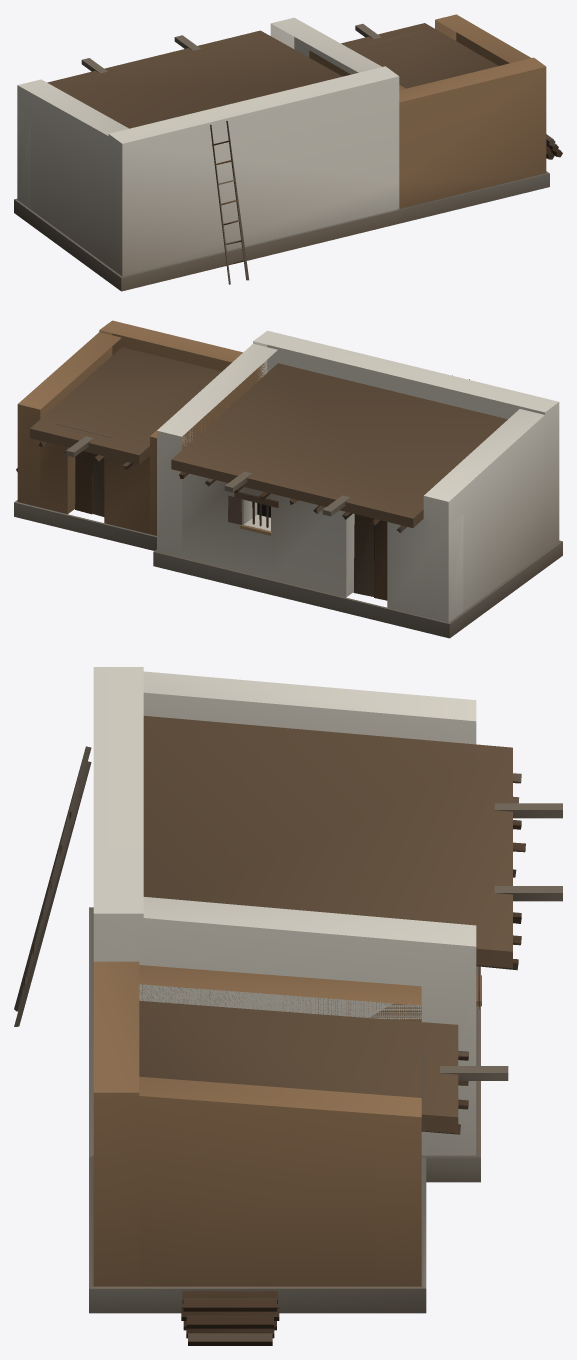
File: casa_torta_b_lod.glb
3 views of the same model, one above another, from view 1: azimuth 30°, elevation 25°; view 2: azimuth 150°, elevation 25°; view 3: azimuth 270°, elevation 25° (orthographic). The views are drawn at different scales.
Parts seen in each view (by area): view 1: casa_torta_b; view 2: casa_torta_b; view 3: casa_torta_b.
Part boxes in pixels (x1,y1,x2,y2): casa_torta_b: (14,14,562,291); casa_torta_b: (14,320,562,638); casa_torta_b: (14,667,562,1345).
Size of the model in its own units: 10.83 by 3.23 by 6.02.
